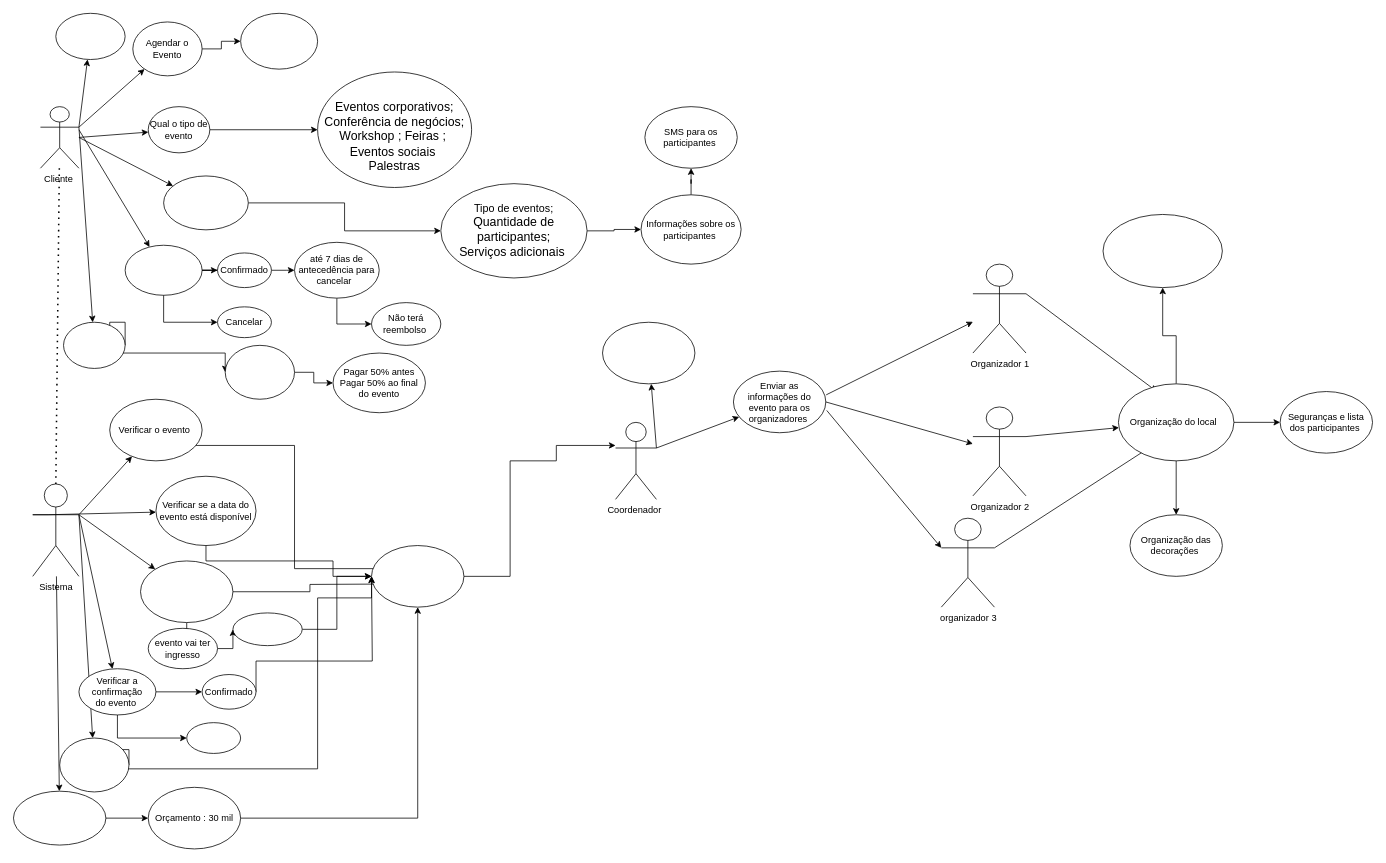
This 1386x863 diagram has some shape labels left out. The box of each missing label's shape, as (x1, y1, x2, y2) in pixels:
Boleto ou Pix: (224, 345, 295, 399)
Cadastrar o evento: (55, 13, 125, 60)
Confirmar o agendamento do evento: (124, 244, 202, 295)
Confirmação do pagamento: (59, 737, 129, 792)
Informações que deve ser coletadas: (163, 175, 248, 230)
Localização: Data: / / Horário:: (240, 13, 318, 69)
Mandar as informações para o Administrador: (371, 545, 464, 607)
Organizar Sistema de som e salas climatizadas: (1102, 214, 1222, 288)
Pagamento: (63, 321, 125, 368)
Prazo: até 90 dias: (13, 790, 106, 845)
Recusado: (186, 722, 241, 753)
sim ou não: (232, 612, 302, 646)
Verificar as informações do evento coletado: (140, 560, 233, 623)
Verificar as informações pega do Sistema: (602, 321, 695, 384)
